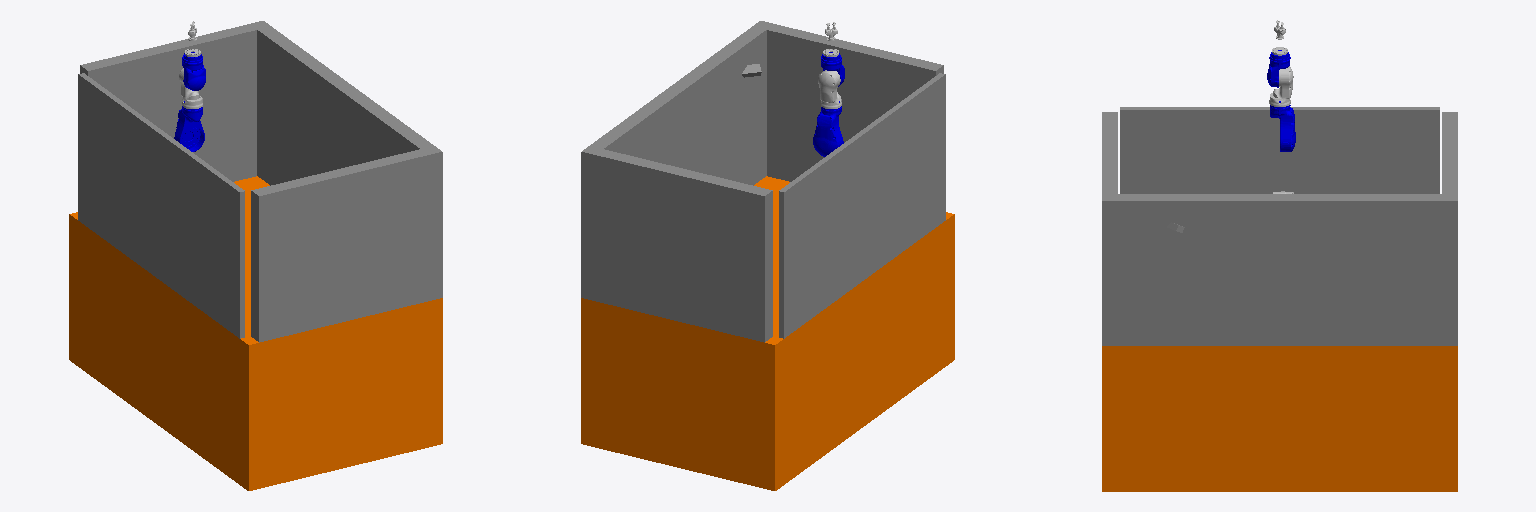
robot.urdf — mantis_sia20d:
<?xml version="1.0" ?>
<!-- =================================================================================== -->
<!-- |    This document was autogenerated by xacro from mantis_sia20d_arm_workspace.xacro | -->
<!-- |    EDITING THIS FILE BY HAND IS NOT RECOMMENDED                                 | -->
<!-- =================================================================================== -->
<robot name="mantis_sia20d" xmlns:xacro="http://ros.org/wiki/xacro">
  <!--include filename="$(find mantis_config)/urdf/vacuum_gripper.xacro"/-->
  <material name="yellow_transparent">
    <color rgba="0 1 1 0.4"/>
  </material>
  <material name="orange_transparent">
    <color rgba="1 0.5 0 0.4"/>
  </material>
  <material name="gray_transparent">
    <color rgba="0.6 0.6 0.6 0.4"/>
  </material>
  <material name="blue_transparent">
    <color rgba="0 0.8 1 0.4"/>
  </material>
  <link name="workcell_frame"/>
  <!-- property list -->
  <!-- instantiating workcell definitions -->
  <link name="table_base1">
    <visual>
      <origin rpy="0 0 0" xyz="0 0 -0.5"/>
      <geometry>
        <box size="1.3875 2.22 1"/>
      </geometry>
      <material name="orange_transparent"/>
    </visual>
    <collision>
      <origin rpy="0 0 0" xyz="0 0 -0.5"/>
      <geometry>
        <box size="1.3875 2.22 1"/>
      </geometry>
      <material name="blue_transparent"/>
    </collision>
  </link>
  <joint name="workcell_to_table_base1" type="fixed">
    <parent link="workcell_frame"/>
    <child link="table_base1"/>
    <origin rpy="0 0 0" xyz="0.69375 0 0"/>
  </joint>
  <link name="front_wall1">
    <visual>
      <geometry>
        <box size="0.1 2.22 1"/>
      </geometry>
      <material name="gray_transparent"/>
    </visual>
    <collision>
      <geometry>
        <box size="0.1 2.22 1"/>
      </geometry>
      <material name="blue_transparent"/>
    </collision>
  </link>
  <joint name="workcell_frame_to_front_wall1" type="fixed">
    <parent link="workcell_frame"/>
    <child link="front_wall1"/>
    <origin rpy="0 0 0" xyz="1.3375 0 0.5"/>
  </joint>
  <link name="back_wall1">
    <visual>
      <geometry>
        <box size="0.04 2.0 1"/>
      </geometry>
      <material name="gray_transparent"/>
    </visual>
    <collision>
      <geometry>
        <box size="0.04 2.0 1"/>
      </geometry>
      <material name="blue_transparent"/>
    </collision>
  </link>
  <joint name="workcell_frame_to_back_wall1" type="fixed">
    <parent link="workcell_frame"/>
    <child link="back_wall1"/>
    <origin rpy="0 0 0" xyz="0.02 0 0.5"/>
  </joint>
  <link name="left_wall1">
    <visual>
      <geometry>
        <box size="1.221 0.1 1"/>
      </geometry>
      <material name="gray_transparent"/>
    </visual>
    <collision>
      <geometry>
        <box size="1.221 0.1 1"/>
      </geometry>
      <material name="blue_transparent"/>
    </collision>
  </link>
  <joint name="workcell_frame_to_left_wall1" type="fixed">
    <parent link="workcell_frame"/>
    <child link="left_wall1"/>
    <origin rpy="0 0 0" xyz="0.687 1.06 0.5"/>
  </joint>
  <link name="right_wall1">
    <visual>
      <geometry>
        <box size="1.221 0.1 1"/>
      </geometry>
      <material name="gray_transparent"/>
    </visual>
    <collision>
      <geometry>
        <box size="1.221 0.1 1"/>
      </geometry>
      <material name="blue_transparent"/>
    </collision>
  </link>
  <joint name="workcell_frame_to_right_wall1" type="fixed">
    <parent link="workcell_frame"/>
    <child link="right_wall1"/>
    <origin rpy="0 0 0" xyz="0.687 -1.06 0.5"/>
  </joint>
  <!-- end of workcell definitions -->
  <!-- instantiating sensor definitions -->
  <!--xacro:sensor_definitions prefix="${arm_prefix}" parent_link="workcell_frame" 
		x_val="1.20" y_val="0" z_val="0.4" pitch="0.5235" yaw="3.147"/-->
  <material name="sia20d_arm_color_b">
    <color rgba="0 0.8 1 0.4"/>
  </material>
  <material name="sia20d_arm_color_a">
    <color rgba="0.8 0.2 1 0.2"/>
  </material>
  <material name="sia20d_arm_silver">
    <color rgba="0.6 0.6 0.6 1"/>
  </material>
  <link name="sia20d_arm_kinect_link">
    <collision>
      <material name="sia20d_arm_color_a"/>
      <geometry>
        <box size="0.36 0.28 0.22"/>
      </geometry>
    </collision>
  </link>
  <link name="sia20d_arm_kinect_keepout">
    <collision>
      <material name="sia20d_arm_color_b"/>
      <geometry>
        <box size="0.2 0.32 0.9"/>
      </geometry>
    </collision>
  </link>
  <link name="sia20d_arm_kinect_frame">
    <visual>
      <origin rpy="0 0 0" xyz="0 0 0"/>
      <geometry>
        <box size="0.064 0.28 0.04"/>
      </geometry>
      <material name="sia20d_arm_silver"/>
    </visual>
    <collision>
      <origin rpy="0 0 0" xyz="0 0 0"/>
      <geometry>
        <box size="0.064 0.28 0.04"/>
      </geometry>
    </collision>
  </link>
  <link name="sia20d_arm_kinect_ir_link">
    <visual>
      <origin rpy="0 0 0" xyz="0 0 0"/>
      <geometry>
        <sphere radius="0.0005"/>
      </geometry>
    </visual>
  </link>
  <link name="sia20d_arm_kinect_rgb_link">
    <visual>
      <origin rpy="0 0 0" xyz="0 0 0"/>
      <geometry>
        <sphere radius="0.0005"/>
      </geometry>
    </visual>
  </link>
  <link name="sia20d_arm_kinect_ir_optical_frame"/>
  <link name="sia20d_arm_kinect_rgb_optical_frame"/>
  <joint name="sia20d_arm_kinect_frame_joint" type="fixed">
    <parent link="sia20d_arm_kinect_link"/>
    <child link="sia20d_arm_kinect_frame"/>
    <origin rpy="0 0 0" xyz="0 0 0"/>
  </joint>
  <joint name="sia20d_arm_kinect_ir_joint" type="fixed">
    <parent link="sia20d_arm_kinect_frame"/>
    <child link="sia20d_arm_kinect_ir_link"/>
    <origin rpy="0 0 0" xyz="0 0 0"/>
  </joint>
  <joint name="sia20d_arm_kinect_ir_optical_frame_joint" type="fixed">
    <parent link="sia20d_arm_kinect_ir_link"/>
    <child link="sia20d_arm_kinect_ir_optical_frame"/>
    <origin rpy="-1.57 0 -1.57" xyz="0 0 0"/>
  </joint>
  <joint name="sia20d_arm_kinect_rgb_joint" type="fixed">
    <parent link="sia20d_arm_kinect_ir_link"/>
    <child link="sia20d_arm_kinect_rgb_link"/>
    <origin rpy="0 0 0" xyz="0 -0.03 0"/>
  </joint>
  <joint name="sia20d_arm_kinect_rgb_optical_frame_joint" type="fixed">
    <parent link="sia20d_arm_kinect_rgb_link"/>
    <child link="sia20d_arm_kinect_rgb_optical_frame"/>
    <origin rpy="-1.57 0 -1.57" xyz="0 0 0"/>
  </joint>
  <joint name="sia20d_arm_sia20d_arm_base_link_to_kinect_link" type="fixed">
    <parent link="sia20d_arm_base_link"/>
    <child link="sia20d_arm_kinect_link"/>
    <origin rpy="0 0.5235 2.356" xyz="1.08 -0.72 0.82"/>
  </joint>
  <joint name="sia20d_arm_sia20d_arm_base_link_to_kinect_keepout" type="fixed">
    <parent link="sia20d_arm_base_link"/>
    <child link="sia20d_arm_kinect_keepout"/>
    <origin rpy="0 0 2.356" xyz="1.08 -0.72 0.45"/>
  </joint>
  <!-- end of sensor definitions -->
  <!-- instantiating arm and gripper -->
  <link name="sia20d_arm_gripper_frame"/>
  <link name="sia20d_arm_gripper_body">
    <visual>
      <!--origin xyz="0 0.036 -0.0473" rpy="0 0 0"/-->
      <!--geometry>
					<box size="${gripper_length} ${gripper_width} ${gripper_height}"/>
				</geometry-->
      <origin rpy="0 0 0" xyz="0 0 -0.048"/>
      <geometry>
        <mesh filename="package://mantis_config/config/meshes/vacuum_gripper.STL"/>
      </geometry>
      <material name="silver">
        <color rgba="0.8 0.8 0.8 1"/>
      </material>
    </visual>
    <collision>
      <geometry>
        <box size="0.044 0.088 0.0946"/>
      </geometry>
      <material name="another_blue2">
        <color rgba="0.38 0.54 0.83 1"/>
      </material>
    </collision>
  </link>
  <link name="sia20d_arm_tcp_frame"/>
  <joint name="sia20d_arm_gripper_to_palm" type="fixed">
    <parent link="sia20d_arm_gripper_frame"/>
    <child link="sia20d_arm_gripper_body"/>
    <origin rpy="0 0 0" xyz="0 0 0.0473"/>
  </joint>
  <joint name="sia20d_arm_gripper_to_tcp" type="fixed">
    <parent link="sia20d_arm_gripper_frame"/>
    <child link="sia20d_arm_tcp_frame"/>
    <origin rpy="0 0 0" xyz=" 0 0.022 0.0946"/>
  </joint>
  <link name="sia20d_arm_base_link">
    <visual>
      <geometry>
        <mesh filename="package://motoman_config/meshes/sia20d/visual/MOTOMAN_BASE.stl"/>
      </geometry>
      <material name="blue">
        <color rgba="0 0 1 1"/>
      </material>
    </visual>
    <collision>
      <geometry>
        <mesh filename="package://motoman_config/meshes/sia20d/collision/MOTOMAN_BASE.stl"/>
      </geometry>
      <material name="yellow">
        <color rgba="0 1 1 1"/>
      </material>
    </collision>
  </link>
  <link name="sia20d_arm_link_s">
    <visual>
      <origin rpy="0 0 3.1416" xyz="0 0 0"/>
      <geometry>
        <mesh filename="package://motoman_config/meshes/sia20d/visual/MOTOMAN_AXIS_S.stl"/>
      </geometry>
      <material name="silver">
        <color rgba="0.8 0.8 0.8 1"/>
      </material>
    </visual>
    <collision>
      <origin rpy="0 0 3.1416" xyz="0 0 0"/>
      <geometry>
        <mesh filename="package://motoman_config/meshes/sia20d/collision/MOTOMAN_AXIS_S.stl"/>
      </geometry>
      <material name="yellow"/>
    </collision>
  </link>
  <link name="sia20d_arm_link_l">
    <visual>
      <origin rpy="1.57 3.1416 3.1416" xyz="0 0 0"/>
      <geometry>
        <mesh filename="package://motoman_config/meshes/sia20d/visual/MOTOMAN_AXIS_L.stl"/>
      </geometry>
      <material name="blue"/>
    </visual>
    <collision>
      <origin rpy="1.57 3.1416 3.1416" xyz="0 0 0"/>
      <geometry>
        <mesh filename="package://motoman_config/meshes/sia20d/collision/MOTOMAN_AXIS_L.stl"/>
      </geometry>
      <material name="yellow"/>
    </collision>
  </link>
  <link name="sia20d_arm_link_e">
    <visual>
      <origin rpy="0 0 0" xyz="0 0 0"/>
      <geometry>
        <mesh filename="package://motoman_config/meshes/sia20d/visual/MOTOMAN_AXIS_E.stl"/>
      </geometry>
      <material name="silver"/>
    </visual>
    <collision>
      <origin rpy="0 0 0" xyz="0 0 0"/>
      <geometry>
        <mesh filename="package://motoman_config/meshes/sia20d/collision/MOTOMAN_AXIS_E.stl"/>
      </geometry>
      <material name="yellow"/>
    </collision>
  </link>
  <link name="sia20d_arm_link_u">
    <visual>
      <origin rpy="1.57 -3.1415 3.1416" xyz="0 0 0"/>
      <geometry>
        <mesh filename="package://motoman_config/meshes/sia20d/visual/MOTOMAN_AXIS_U.stl"/>
      </geometry>
      <material name="blue"/>
    </visual>
    <collision>
      <origin rpy="1.57 -3.1415 3.1416" xyz="0 0 0"/>
      <geometry>
        <mesh filename="package://motoman_config/meshes/sia20d/collision/MOTOMAN_AXIS_U.stl"/>
      </geometry>
      <material name="yellow"/>
    </collision>
  </link>
  <link name="sia20d_arm_link_r">
    <visual>
      <origin rpy="0 0 0" xyz="0 0 0"/>
      <geometry>
        <mesh filename="package://motoman_config/meshes/sia20d/visual/MOTOMAN_AXIS_R.stl"/>
      </geometry>
      <material name="silver"/>
    </visual>
    <collision>
      <origin rpy="0 0 0" xyz="0 0 0"/>
      <geometry>
        <mesh filename="package://motoman_config/meshes/sia20d/collision/MOTOMAN_AXIS_R.stl"/>
      </geometry>
      <material name="yellow"/>
    </collision>
  </link>
  <link name="sia20d_arm_link_b">
    <visual>
      <origin rpy="-1.57 0 0" xyz="0 0 0"/>
      <geometry>
        <mesh filename="package://motoman_config/meshes/sia20d/visual/MOTOMAN_AXIS_B.stl"/>
      </geometry>
      <material name="blue"/>
    </visual>
    <collision>
      <origin rpy="-1.57 0 0" xyz="0 0 0"/>
      <geometry>
        <mesh filename="package://motoman_config/meshes/sia20d/collision/MOTOMAN_AXIS_B.stl"/>
      </geometry>
      <material name="yellow"/>
    </collision>
  </link>
  <link name="sia20d_arm_link_t">
    <visual>
      <geometry>
        <mesh filename="package://motoman_config/meshes/sia20d/visual/MOTOMAN_AXIS_T.stl"/>
      </geometry>
      <material name="silver"/>
    </visual>
    <collision>
      <geometry>
        <mesh filename="package://motoman_config/meshes/sia20d/collision/MOTOMAN_AXIS_T.stl"/>
      </geometry>
      <material name="yellow"/>
    </collision>
  </link>
  <joint name="joint_s" type="revolute">
    <parent link="sia20d_arm_base_link"/>
    <child link="sia20d_arm_link_s"/>
    <origin rpy="0 0 0" xyz="0 0 0.41"/>
    <axis xyz="0 0 1"/>
    <limit effort="100" lower="-3.1416" upper="3.1416" velocity="2.26"/>
  </joint>
  <joint name="joint_l" type="revolute">
    <parent link="sia20d_arm_link_s"/>
    <child link="sia20d_arm_link_l"/>
    <origin rpy="0 0 0" xyz="0 0 0"/>
    <axis xyz="0 1 0"/>
    <limit effort="100" lower="-1.91" upper="1.91" velocity="2.26"/>
  </joint>
  <joint name="joint_e" type="revolute">
    <parent link="sia20d_arm_link_l"/>
    <child link="sia20d_arm_link_e"/>
    <origin rpy="0 0 0" xyz="0 0 0.49"/>
    <axis xyz="0 0 1"/>
    <limit effort="100" lower="-2.96" upper="2.96" velocity="2.96"/>
  </joint>
  <joint name="joint_u" type="revolute">
    <parent link="sia20d_arm_link_e"/>
    <child link="sia20d_arm_link_u"/>
    <origin rpy="0 0 0" xyz="0 0 0"/>
    <axis xyz="0 -1 0"/>
    <limit effort="100" lower="-2.26" upper="2.26" velocity="2.96"/>
  </joint>
  <joint name="joint_r" type="revolute">
    <parent link="sia20d_arm_link_u"/>
    <child link="sia20d_arm_link_r"/>
    <origin rpy="0 0 0" xyz="0 0 0.420"/>
    <axis xyz="0 0 -1"/>
    <limit effort="100" lower="-3.1416" upper="3.1416" velocity="3.48"/>
  </joint>
  <joint name="joint_b" type="revolute">
    <parent link="sia20d_arm_link_r"/>
    <child link="sia20d_arm_link_b"/>
    <origin rpy="0 0 0" xyz="0 0 0"/>
    <axis xyz="0 -1 0"/>
    <limit effort="100" lower="-1.91" upper="1.91" velocity="3.48"/>
  </joint>
  <joint name="joint_t" type="revolute">
    <parent link="sia20d_arm_link_b"/>
    <child link="sia20d_arm_link_t"/>
    <origin rpy="0 0 0" xyz="0 0 0.18"/>
    <axis xyz="0 0 -1"/>
    <limit effort="100" lower="-3.1416" upper="3.1416" velocity="6.97"/>
  </joint>
  <!-- arm-workcell joint definitions -->
  <joint name="sia20d_to_workcell" type="fixed">
    <parent link="workcell_frame"/>
    <child link="sia20d_arm_base_link"/>
    <origin rpy="0 0 0" xyz="0.241 0 0"/>
  </joint>
  <!-- end of arm workcell joint definitions-->
  <!-- arm-gripper coupling link definitions-->
  <link name="sia20d_arm_coupler">
    <visual>
      <geometry>
        <mesh filename="package://longhorn/meshes/coupler/visual/COUPLER.stl"/>
      </geometry>
      <material name="orange">
        <color rgba="1 0.5 0 1"/>
      </material>
    </visual>
    <collision>
      <geometry>
        <mesh filename="package://longhorn/meshes/coupler/collision/COUPLER.stl"/>
      </geometry>
      <material name="yellow">
        <color rgba="0 1 1 1"/>
      </material>
    </collision>
  </link>
  <!-- end of arm-gripper coupling link definitions -->
  <!-- arm-gripper coupling joint definitions -->
  <!--joint name="tool-coupler" type="fixed"-->
  <joint name="sia20d_arm_tool_to_coupler" type="fixed">
    <parent link="sia20d_arm_link_t"/>
    <child link="sia20d_arm_coupler"/>
    <origin rpy="1.570 0 -0.785" xyz="0 0 0"/>
  </joint>
  <!--joint name="coupler-hand" type="fixed"-->
  <joint name="sia20d_arm_coupler_to_hand" type="fixed">
    <parent link="sia20d_arm_coupler"/>
    <child link="sia20d_arm_gripper_frame"/>
    <!--child link="${arm_prefix}palm"/-->
    <origin rpy="-1.570 0 0" xyz="0 0.087 0"/>
    <!--origin xyz="0 0.182 0.036" rpy="-1.570 0 0"/-->
  </joint>
  <!-- end of arm-gripper coupling joint definitions -->
</robot>

--- Render facts (derived) ---
The picture shows the robot from 3 angles, left to right: view 1: azimuth 30°, elevation 25°; view 2: azimuth 150°, elevation 25°; view 3: azimuth 270°, elevation 25°; orthographic projection.
Robot: mantis_sia20d — 25 links, 24 joints (7 revolute, 17 fixed); root link workcell_frame; default pose: every joint at zero.
Visible links, largest first — view 1: table_base1, right_wall1, back_wall1, front_wall1, left_wall1, sia20d_arm_link_u, sia20d_arm_link_b; view 2: table_base1, left_wall1, back_wall1, front_wall1, right_wall1, sia20d_arm_link_u, sia20d_arm_link_r; view 3: front_wall1, table_base1, back_wall1, left_wall1, right_wall1, sia20d_arm_link_u, sia20d_arm_link_r.
Link boxes in pixels (x1=…): table_base1: x1=69, y1=176, x2=442, y2=490; right_wall1: x1=251, y1=149, x2=429, y2=342; back_wall1: x1=78, y1=73, x2=244, y2=338; front_wall1: x1=251, y1=21, x2=442, y2=300; left_wall1: x1=80, y1=24, x2=258, y2=181; sia20d_arm_link_u: x1=174, y1=101, x2=204, y2=151; sia20d_arm_link_b: x1=182, y1=52, x2=205, y2=90; table_base1: x1=581, y1=176, x2=954, y2=490; left_wall1: x1=594, y1=149, x2=772, y2=342; back_wall1: x1=779, y1=73, x2=945, y2=338; front_wall1: x1=581, y1=21, x2=772, y2=300; right_wall1: x1=765, y1=24, x2=943, y2=181; sia20d_arm_link_u: x1=813, y1=101, x2=843, y2=156; sia20d_arm_link_r: x1=818, y1=70, x2=841, y2=108; front_wall1: x1=1102, y1=194, x2=1457, y2=345; table_base1: x1=1102, y1=346, x2=1457, y2=491; back_wall1: x1=1120, y1=107, x2=1439, y2=193; left_wall1: x1=1442, y1=112, x2=1457, y2=194; right_wall1: x1=1102, y1=112, x2=1117, y2=194; sia20d_arm_link_u: x1=1270, y1=101, x2=1295, y2=151; sia20d_arm_link_r: x1=1269, y1=66, x2=1293, y2=106.
Size in the robot's own frame: 1.45 by 2.22 by 2.69 metres.
7 mesh visuals loaded from 10 distinct referenced files (7 binary STL); not drawn: 3 (reference not matched to a file when rendering).